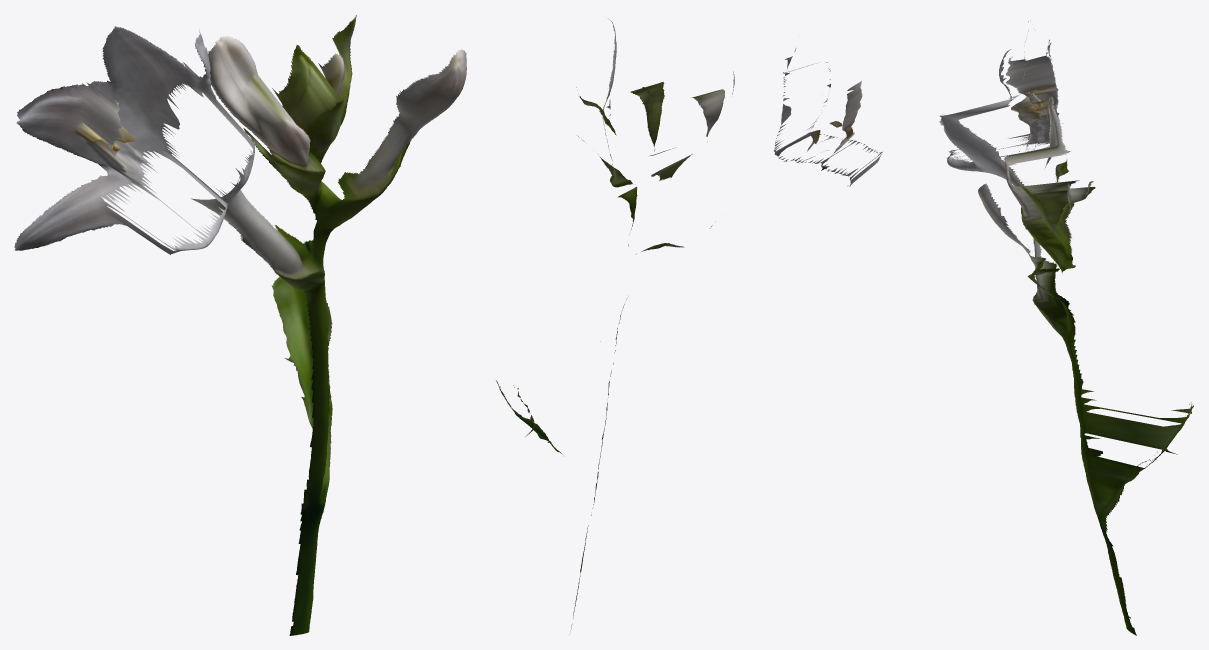
The model's file is moge2-test-2-mesh.glb.
The picture shows the model from 3 angles, left to right: view 1: azimuth 30°, elevation 25°; view 2: azimuth 150°, elevation 25°; view 3: azimuth 270°, elevation 25°; orthographic projection. The views are drawn at different scales.
Parts seen in each view (by area): view 1: world; view 2: world; view 3: world.
Boxes of the visible parts, x1=… form: world: x1=14, y1=15, x2=466, y2=635; world: x1=496, y1=18, x2=882, y2=630; world: x1=939, y1=20, x2=1193, y2=635.
Bounding box in the file's own units: 1.13 × 1.83 × 0.8072.
1 material, 1 textured.
